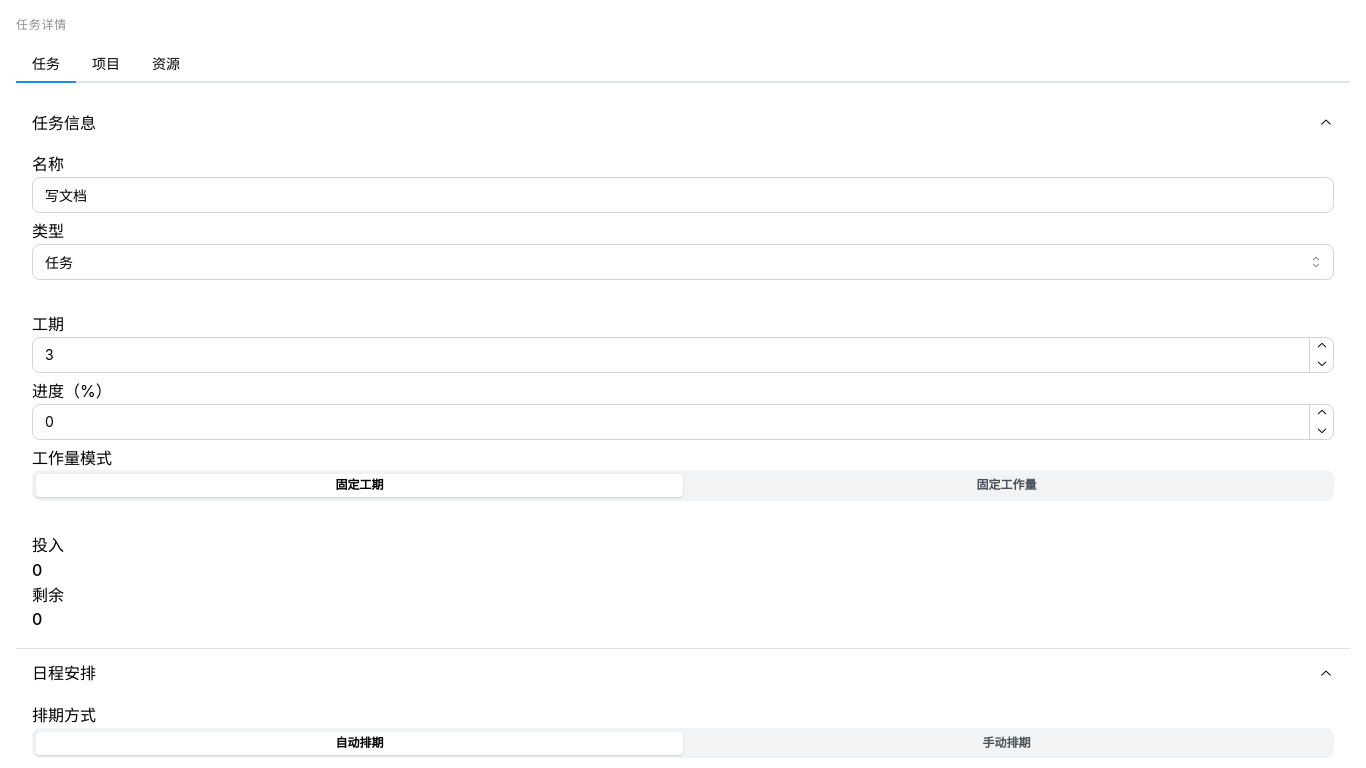
Scenario: Inspector 任务面板的 7 个分组 › 点分组头能折叠 / 展开
Click the button "任务信息" at {"x": 64, "y": 123}, box x1=16 y1=99 x2=1350 y2=147
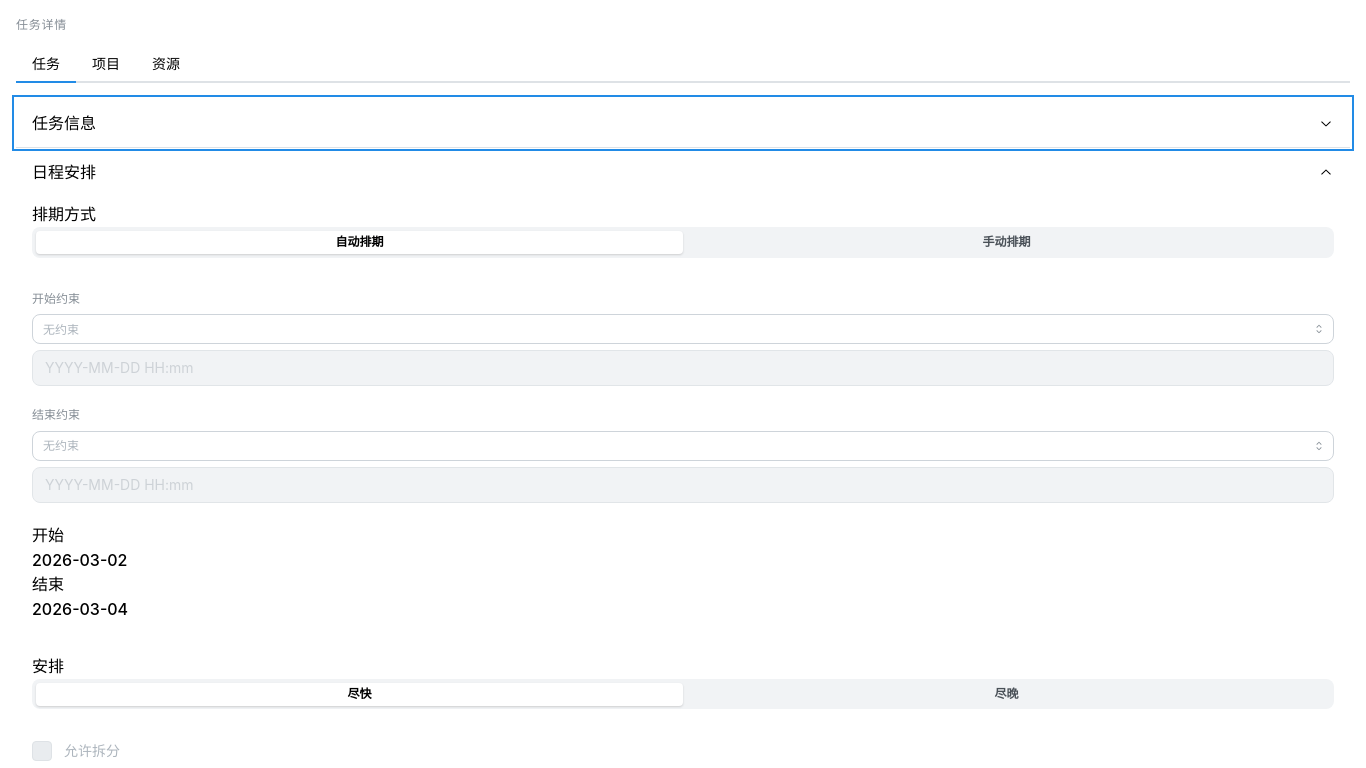
expect the button "任务信息" is collapsed: met
Click the button "任务信息" at {"x": 64, "y": 123}, box x1=16 y1=99 x2=1350 y2=147
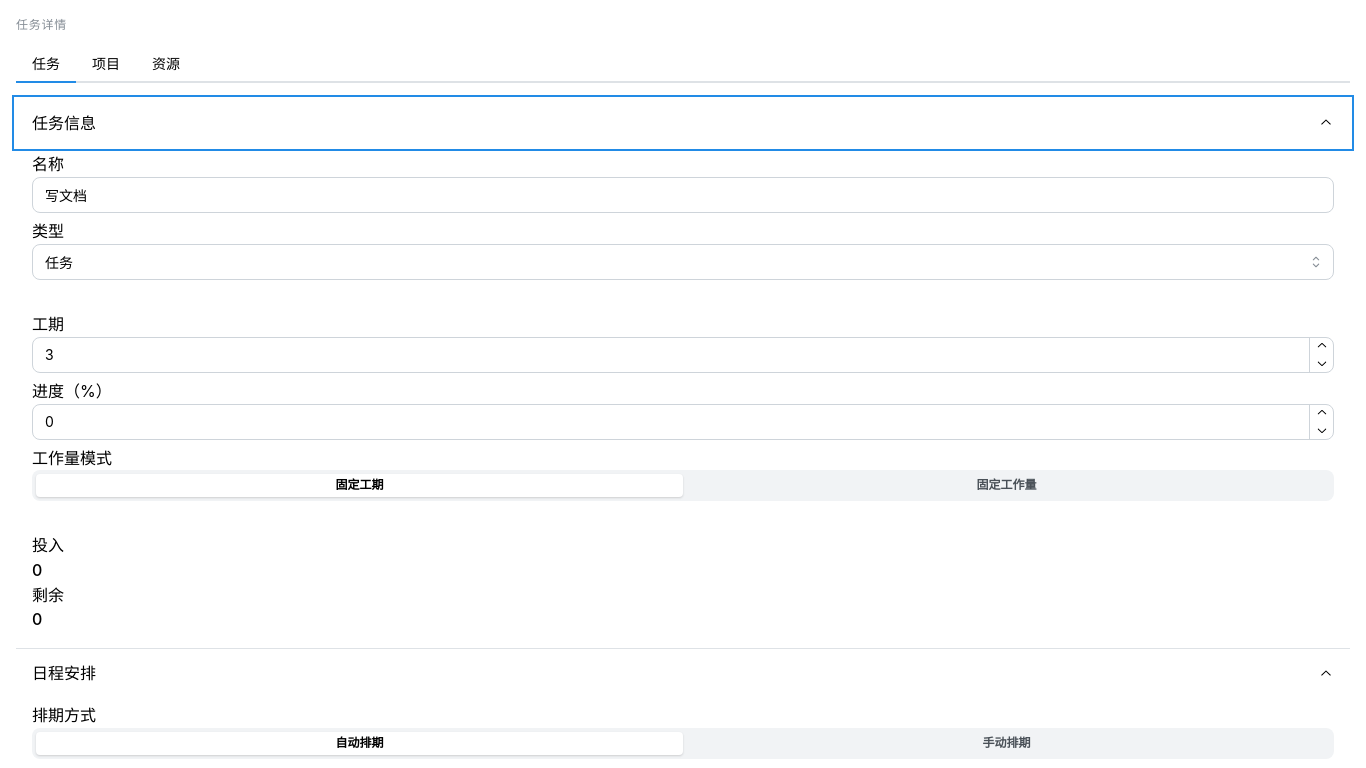
expect the button "任务信息" is expanded: met, box x1=16 y1=99 x2=1350 y2=147
